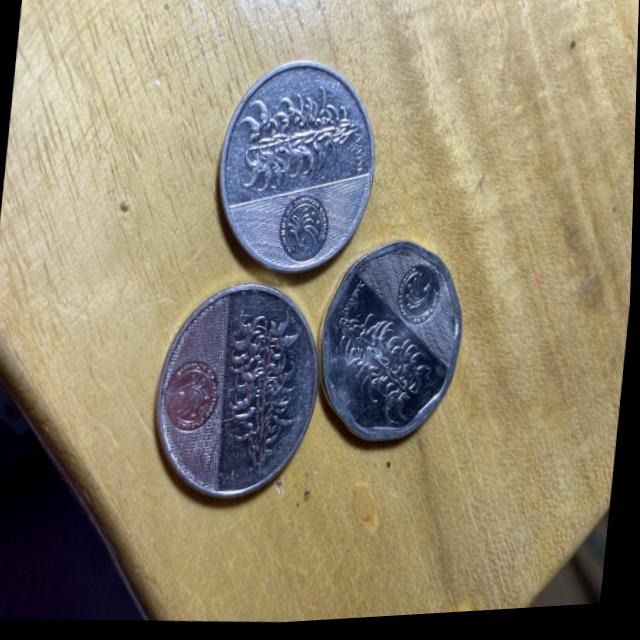5_New_Back: (231, 76, 368, 201), (222, 313, 308, 469), (330, 307, 434, 422)
